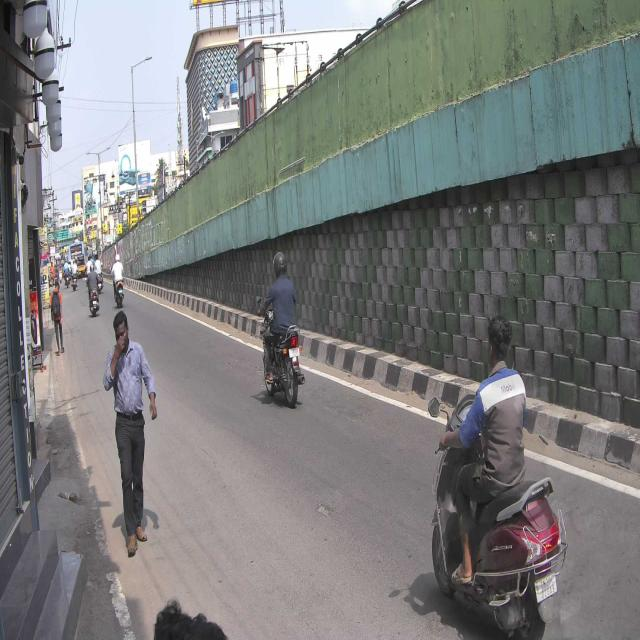single_rider: (428, 312, 567, 640), (258, 252, 306, 408)
